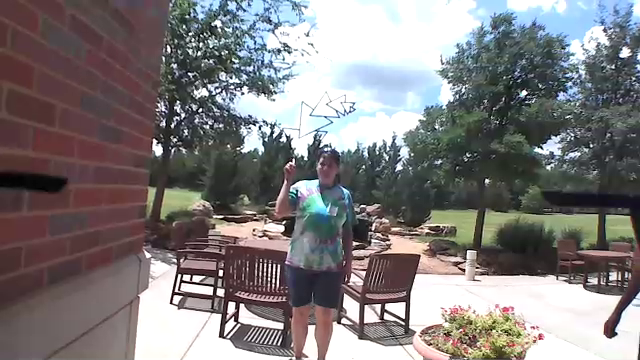up: (280, 154, 300, 184)
